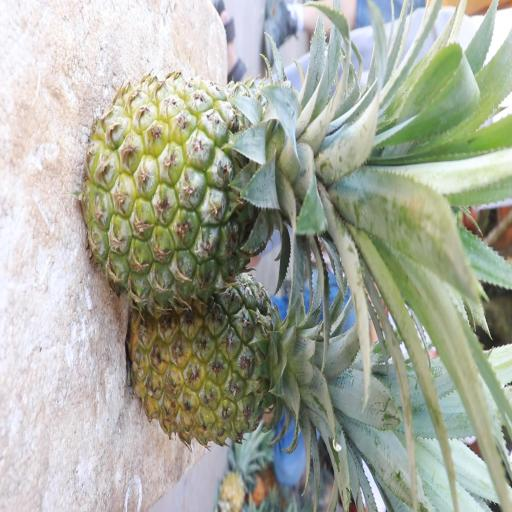------------------------------: (88, 74, 320, 307)
Pineapple - v8 v1: (132, 284, 324, 449)
